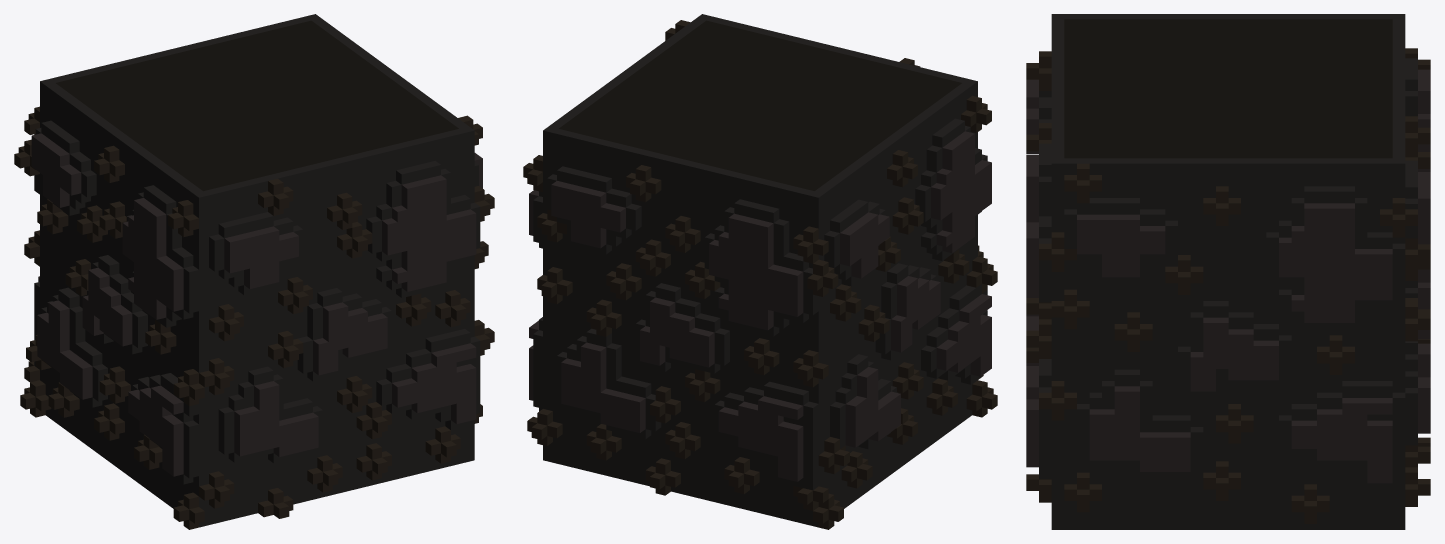
The model's file is mod_rubble.obj.
The picture shows the model from 3 angles, left to right: view 1: azimuth 30°, elevation 25°; view 2: azimuth 150°, elevation 25°; view 3: azimuth 270°, elevation 25°; orthographic projection. The views are drawn at different scales.
Bounding box in the file's own units: 32 × 32 × 32.
Materials: 1 (1 with a texture image).
